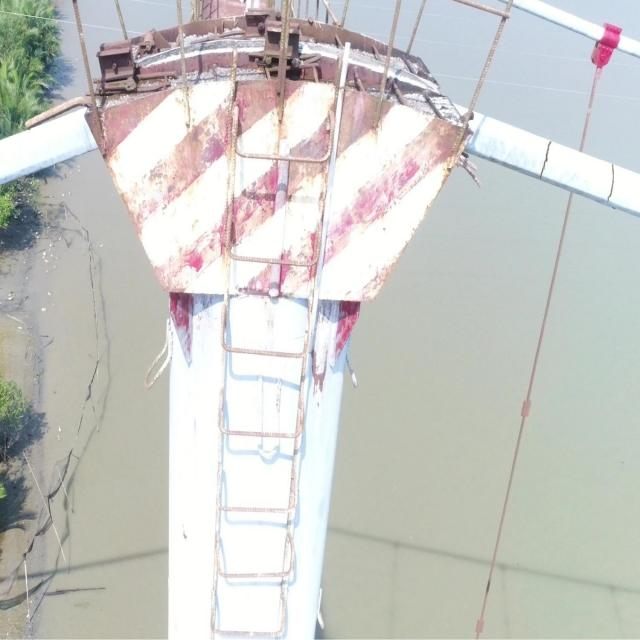crack: (540, 140, 552, 178), (606, 163, 616, 204)
